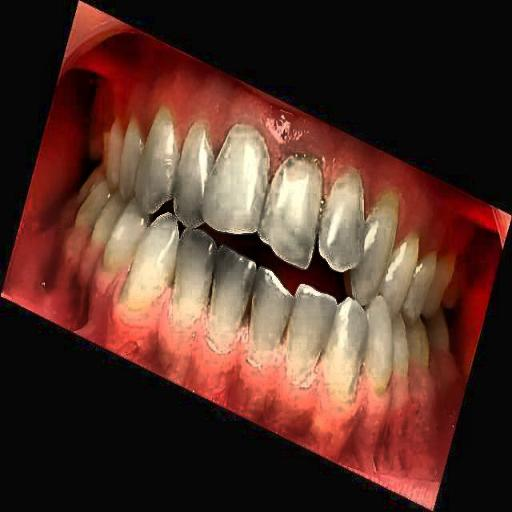Healthy: (106, 73, 434, 406)
